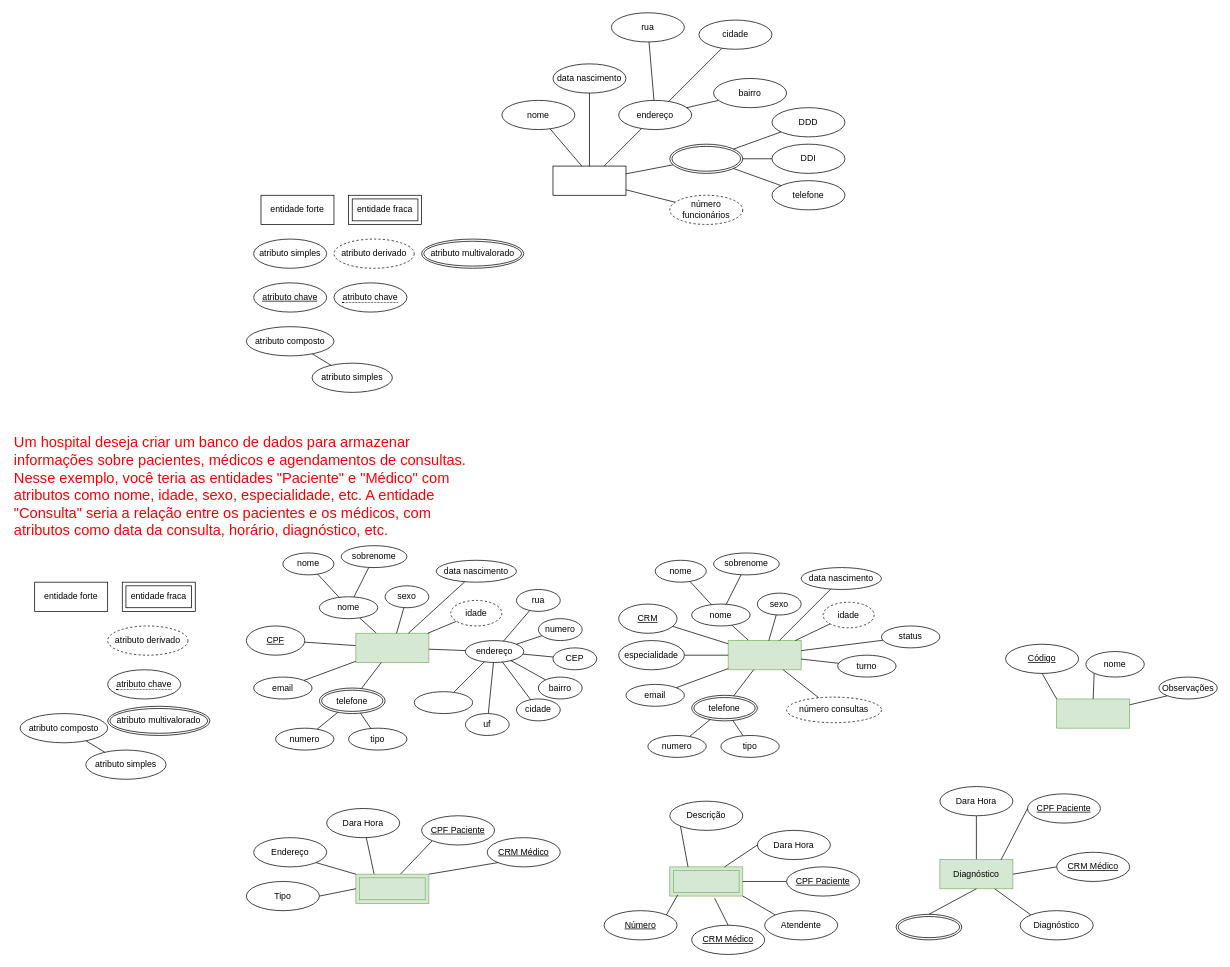
Some shapes in this 1230 by 967 pixel diagram are drawn without their labels. The shapes that lost their labels are listed below. From the top down, each one's box as (x1, y1, x2, y2) in pixels, then its label:
(669, 143, 743, 173): telefones
(552, 165, 626, 195): Departamento
(355, 633, 429, 662): Paciente
(727, 640, 801, 670): Médico
(414, 691, 473, 714): complemento
(1056, 698, 1130, 728): Exame
(355, 873, 429, 903): Consulta
(669, 866, 743, 896): Prontuário
(895, 914, 962, 940): Exames
